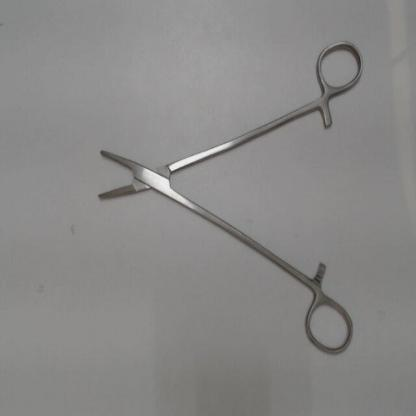8 Mayo Needle Holder: (87, 31, 371, 364)
